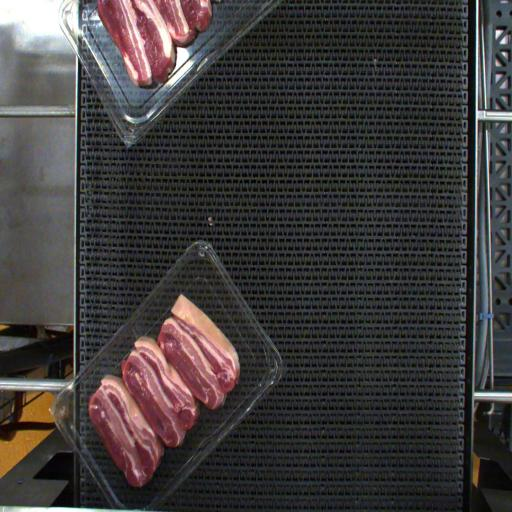twisted-meat: (176, 288, 236, 391)
